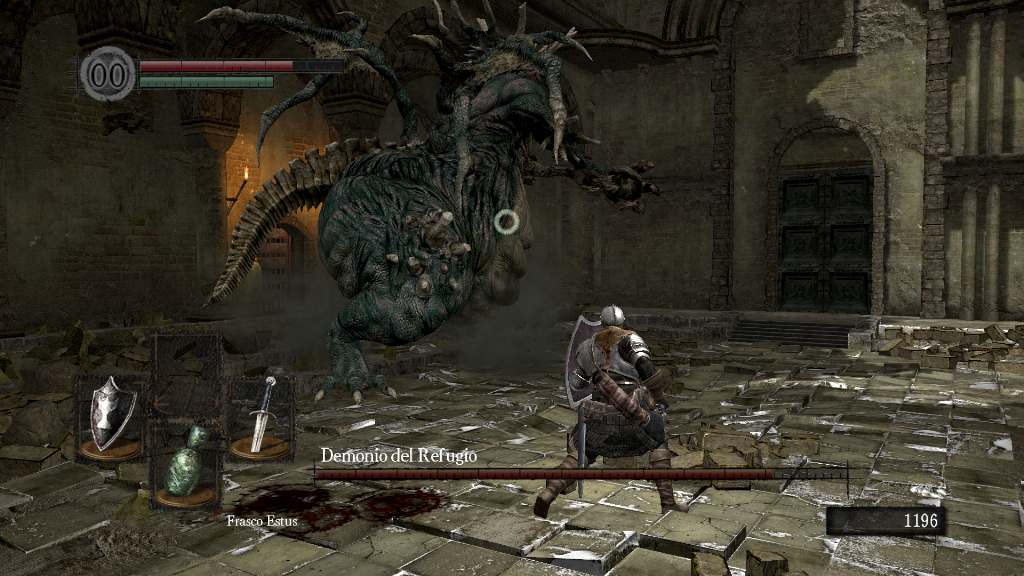asylumDemon: (197, 1, 662, 403)
bossHP: (314, 469, 847, 479)
health: (138, 58, 343, 71)
humanity: (80, 45, 136, 102)
player: (531, 303, 693, 518)
souls: (825, 506, 945, 536)
stamina: (138, 74, 274, 88)
